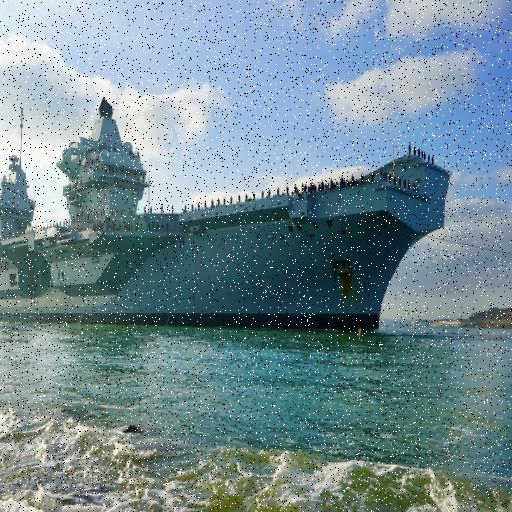Portanaves: (1, 90, 455, 343)
